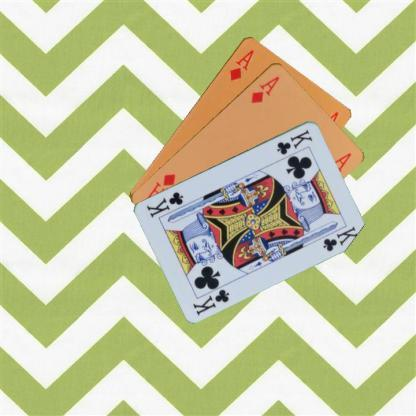Ad: (226, 46, 256, 82), (248, 73, 281, 104)
Kc: (191, 286, 231, 317), (274, 127, 314, 156)
